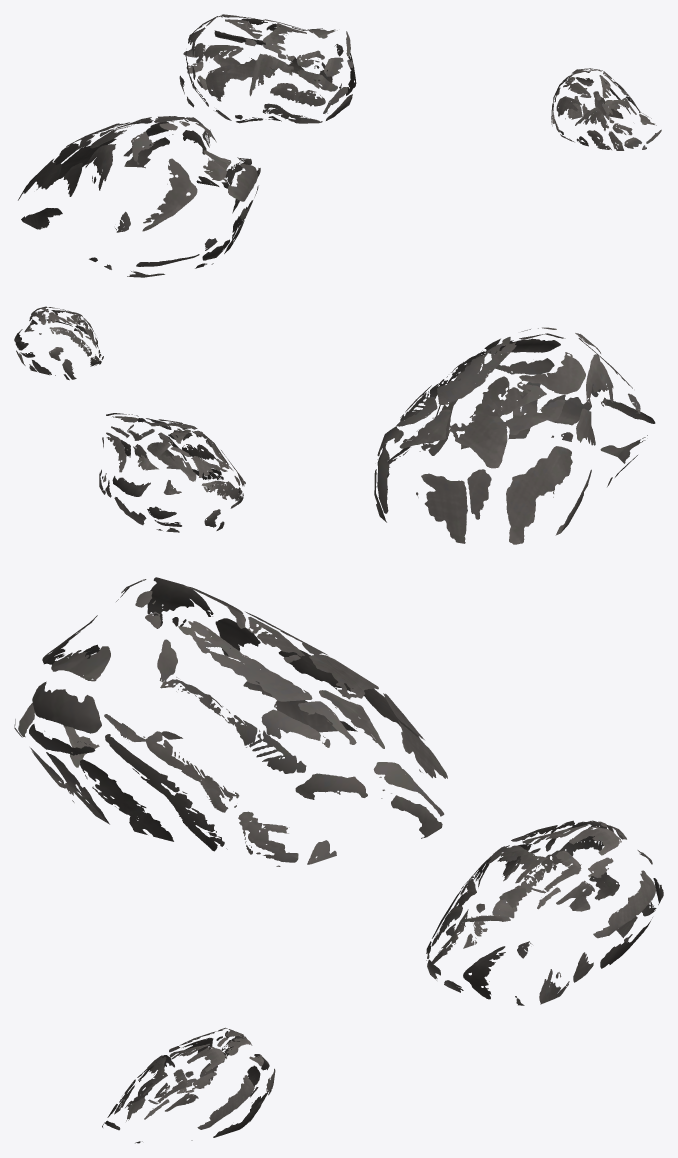
File: SM_ENV_LKNVLD_RockMiddle_B.FBX
The picture shows the model from 3 angles, top to bottom: view 1: azimuth 30°, elevation 25°; view 2: azimuth 150°, elevation 25°; view 3: azimuth 270°, elevation 25°; orthographic projection. The views are drawn at different scales.
Parts seen in each view (by area): view 1: SM_ENV_LKNVLD_RockMiddle_B; view 2: SM_ENV_LKNVLD_RockMiddle_B; view 3: SM_ENV_LKNVLD_RockMiddle_B.
Part boxes in pixels (box(x1,y1,x2,y2)): SM_ENV_LKNVLD_RockMiddle_B: box(18, 14, 661, 277); SM_ENV_LKNVLD_RockMiddle_B: box(14, 306, 655, 544); SM_ENV_LKNVLD_RockMiddle_B: box(14, 577, 663, 1143).
Size of the model in its own units: 627 by 136 by 412.
